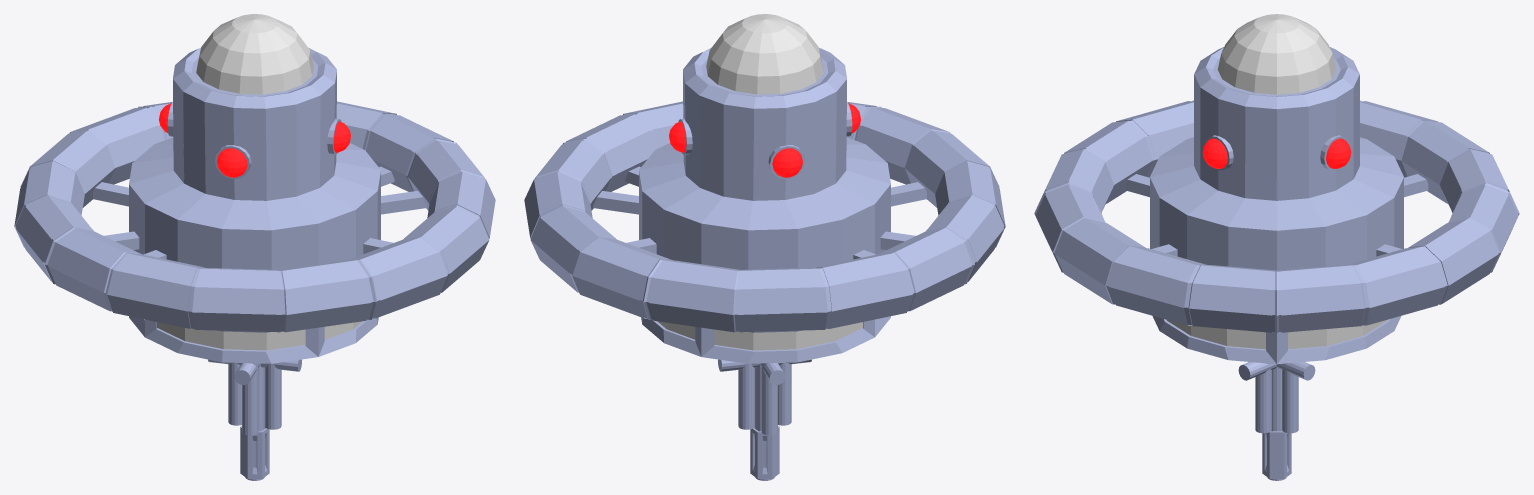
The model's file is Evano_SpaceStation.fbx.
The picture shows the model from 3 angles, left to right: view 1: azimuth 30°, elevation 25°; view 2: azimuth 150°, elevation 25°; view 3: azimuth 270°, elevation 25°; orthographic projection.
Visible parts, largest first — view 1: Cylinder; view 2: Cylinder; view 3: Cylinder.
Part boxes in pixels (x1=…): Cylinder: x1=14, y1=14, x2=495, y2=480; Cylinder: x1=524, y1=14, x2=1005, y2=480; Cylinder: x1=1034, y1=14, x2=1519, y2=480.
Bounding box in the file's own units: 23186 × 24094 × 23186.
